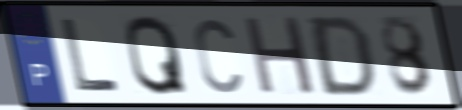8: (379, 15, 434, 98)
C: (191, 15, 245, 95)
D: (309, 13, 377, 99)
H: (241, 14, 319, 98)
L: (58, 16, 123, 94)
Q: (123, 12, 191, 98)
